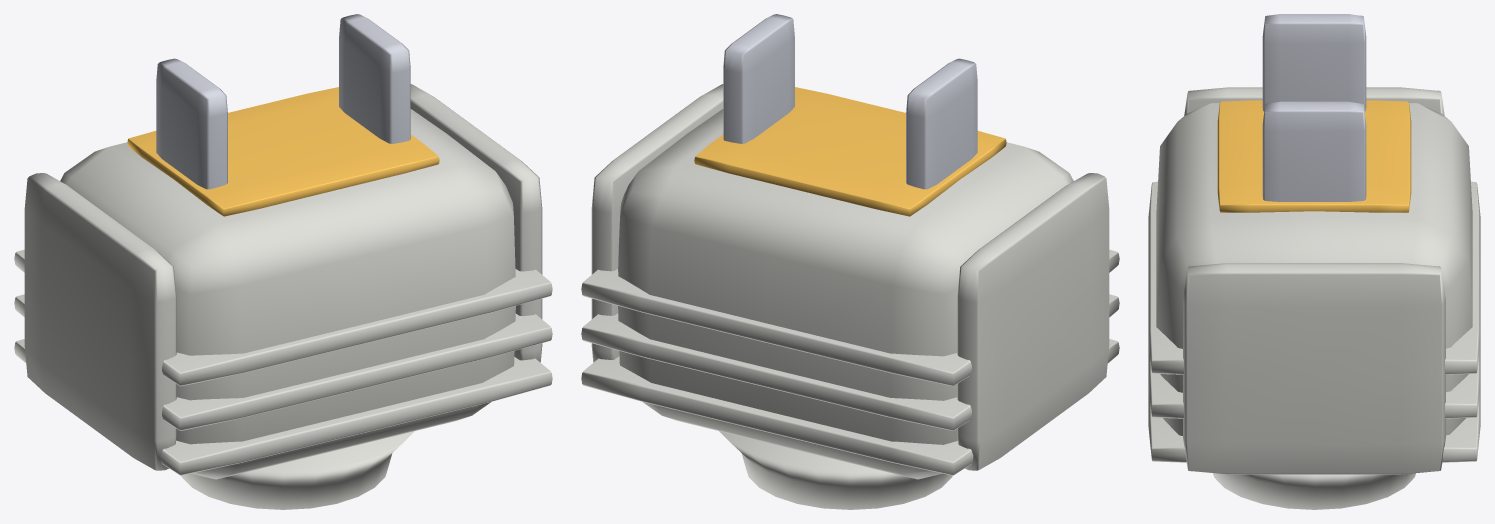
File: BigBadVacuumPlug.obj
3 renders of one model, left to right at view 1: azimuth 30°, elevation 25°; view 2: azimuth 150°, elevation 25°; view 3: azimuth 270°, elevation 25°, orthographic.
Visible parts, largest first — view 1: Plug, Glow, Prong; view 2: Plug, Glow, Prong; view 3: Plug, Prong, Glow.
Part boxes in pixels (x1,y1,x2,y2): Plug: [14, 84, 552, 509]; Glow: [127, 87, 439, 216]; Prong: [156, 14, 410, 189]; Plug: [581, 84, 1119, 509]; Glow: [694, 87, 1006, 216]; Prong: [723, 14, 977, 189]; Plug: [1148, 87, 1480, 509]; Prong: [1262, 14, 1366, 201]; Glow: [1217, 100, 1411, 212].
Bounding box in the file's own units: 6.5 × 6.45 × 4.8.
